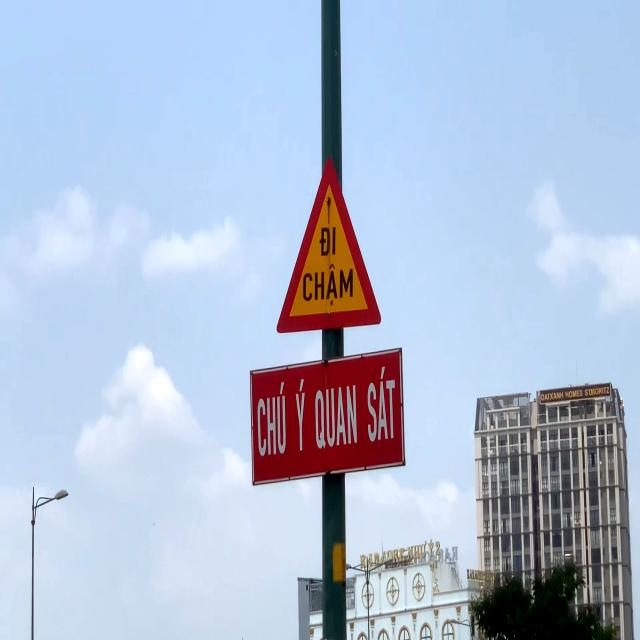W.245a: (276, 154, 382, 336)
